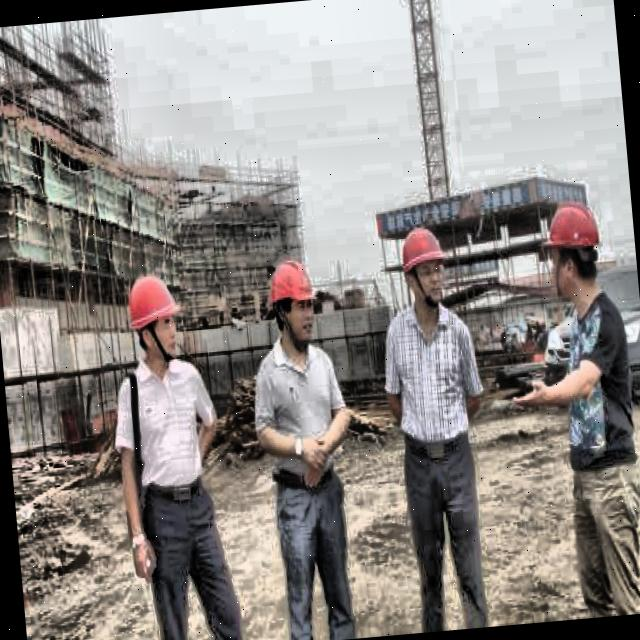helmet: (536, 192, 609, 307), (120, 266, 188, 374), (263, 248, 323, 354), (392, 216, 454, 318)
